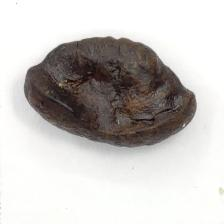NG: (91, 28, 202, 138), (27, 28, 90, 116)
